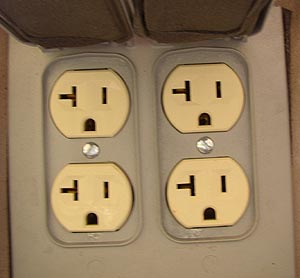outlet: (53, 80, 111, 135), (171, 171, 231, 224), (168, 76, 226, 130), (56, 173, 112, 228)
